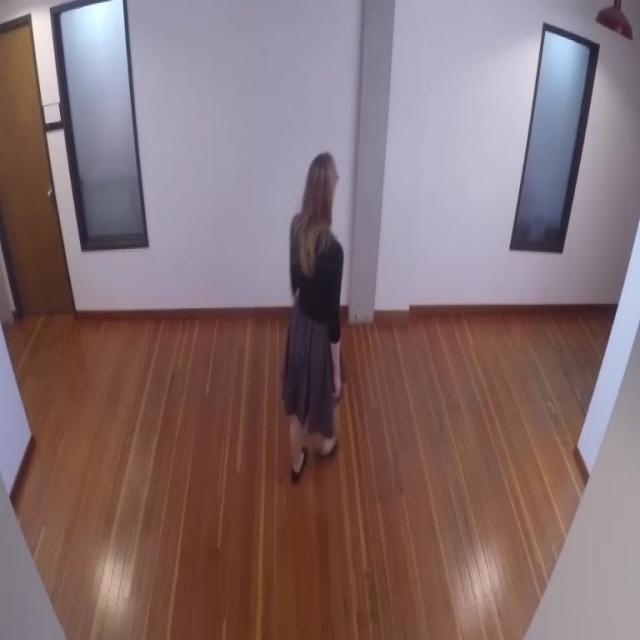Stupid: (280, 150, 345, 483)
